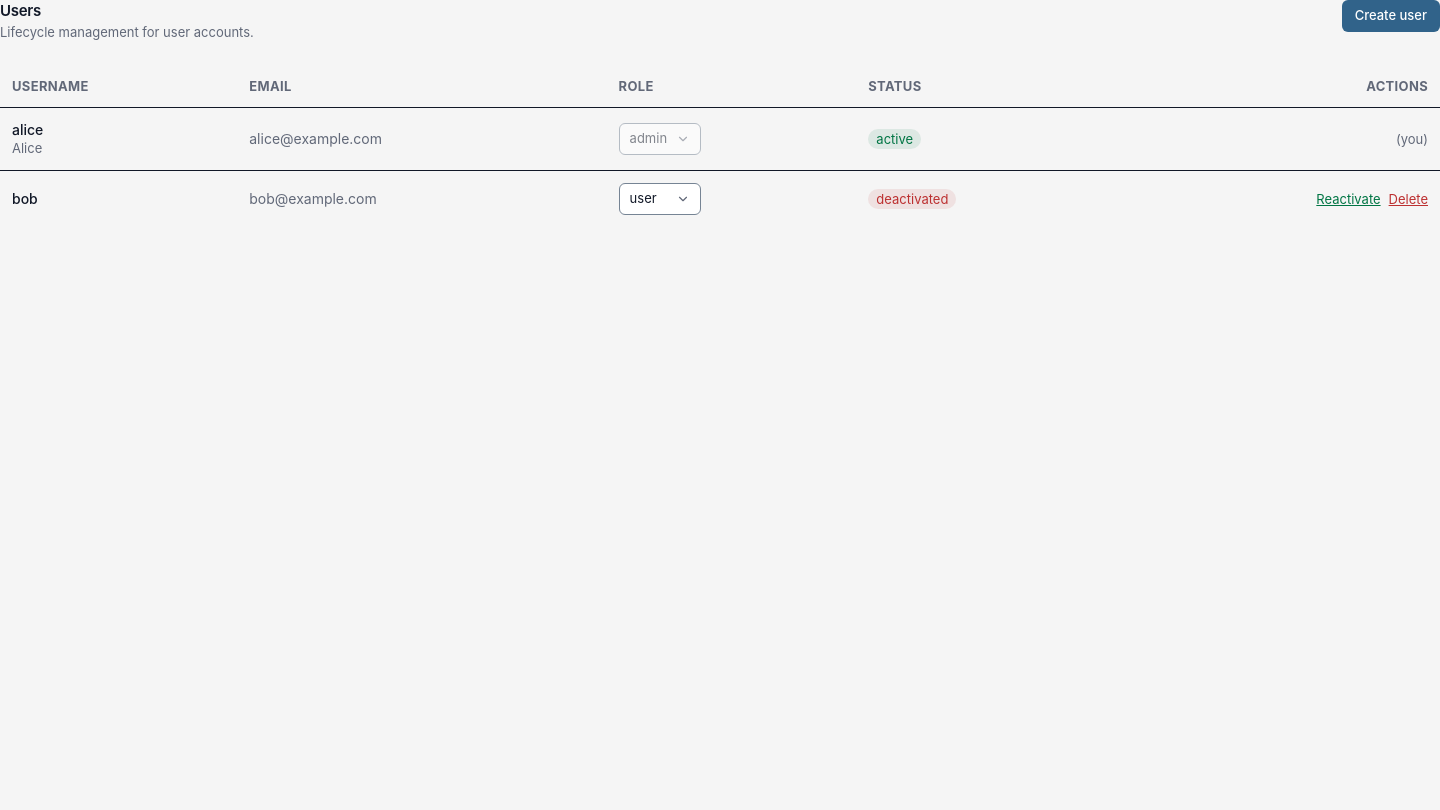
it: UsersAdminPage › delete opens a ConfirmDialog naming the user; confirming sends the DELETE
Check: the text "bob" is shown, box [12,190,38,207]
Click the button "Delete".
click(1408, 199)  # box [1389,191,1428,208]
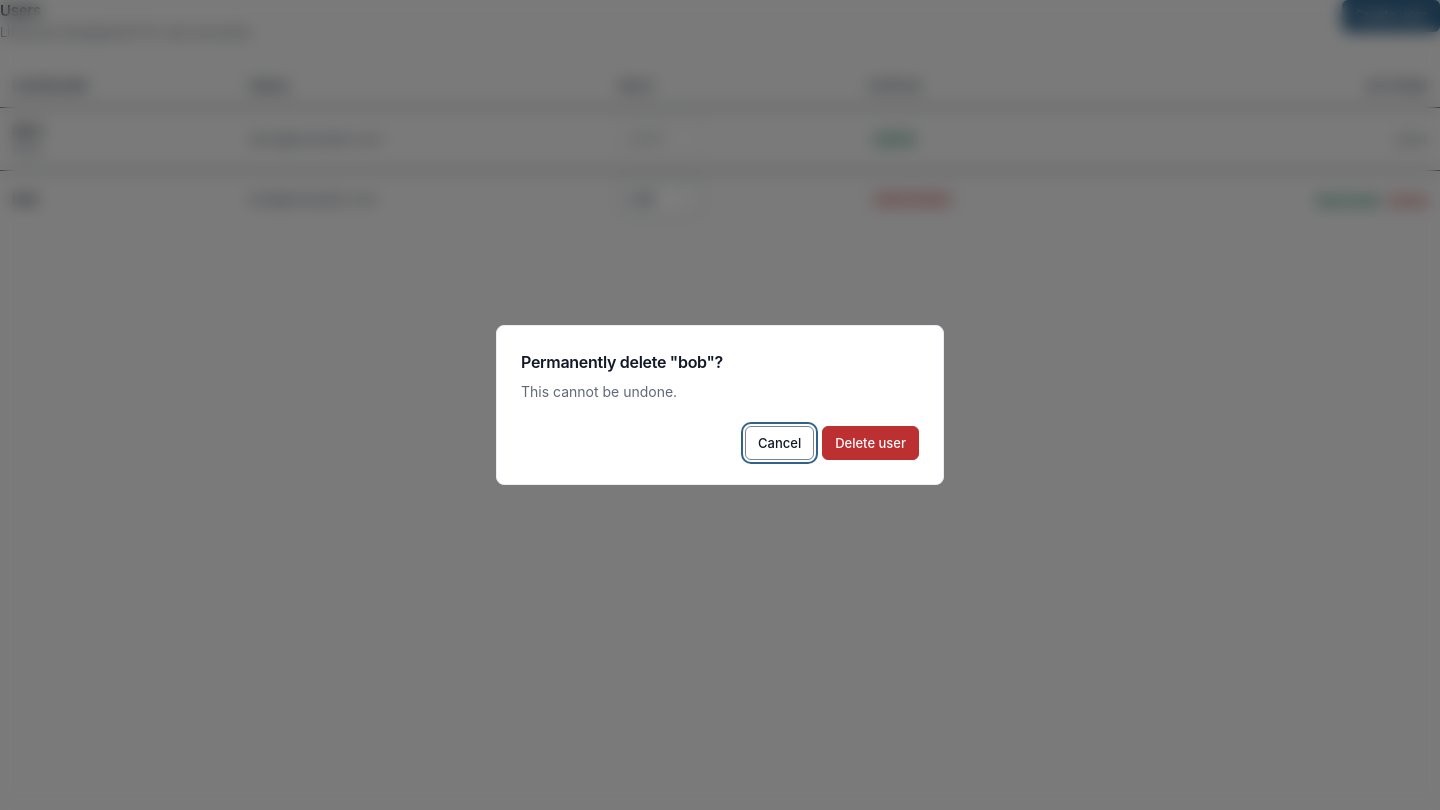
Check: the heading "Permanently delete \"bob\"?" is shown, box [521,352,723,372]
Check: the text "This cannot be undone." is shown, box [521,383,677,400]
Check: the button with test id "confirm-dialog-confirm" reads "Delete user"
Click the button with test id "confirm-dialog-confirm".
click(871, 443)  # box [822,426,919,460]
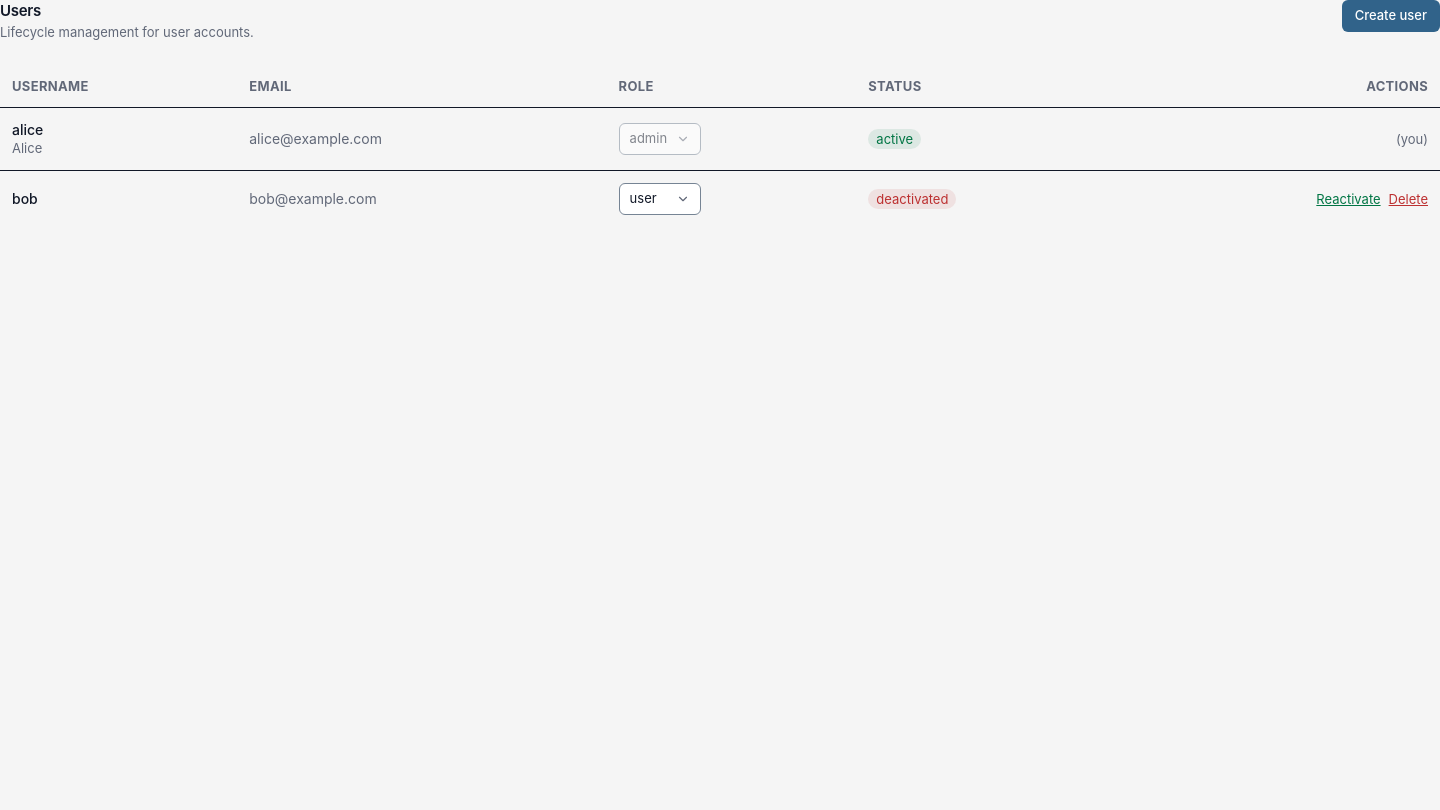
Check: the dialog with test id "confirm-dialog" is gone
